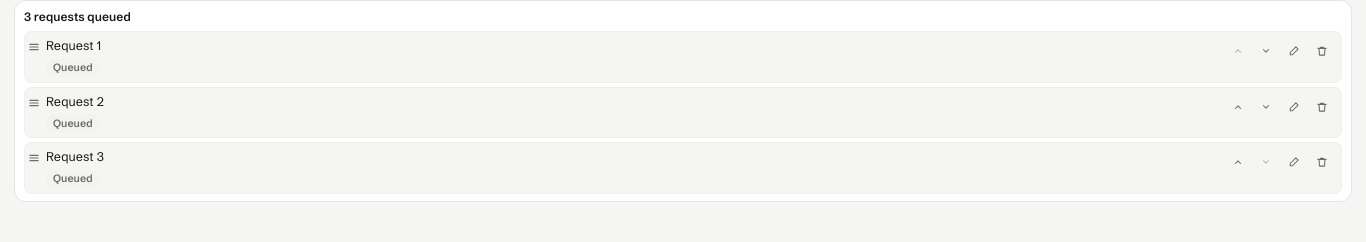
it: QueuedRequests › a refused order (the queue changed) is explained, and the list is reloaded
Click the button named "Move queued request 1 down" at (1266, 51), box x1=1252 y1=37 x2=1280 y2=65
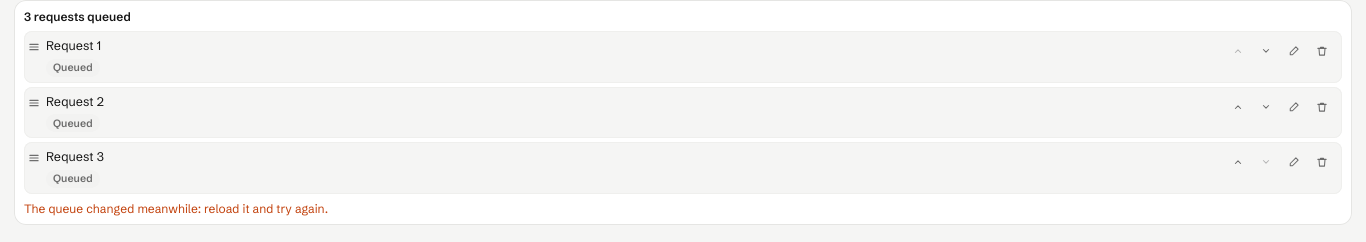
Check: the message reads "The queue changed meanwhile: reload it and try again.", box x1=24 y1=201 x2=328 y2=216
